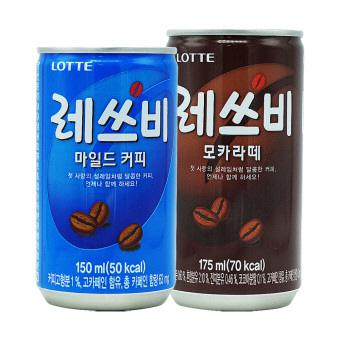letsbe: (38, 43, 176, 316)
